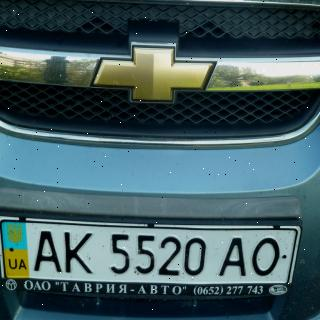license: (1, 222, 303, 296)
